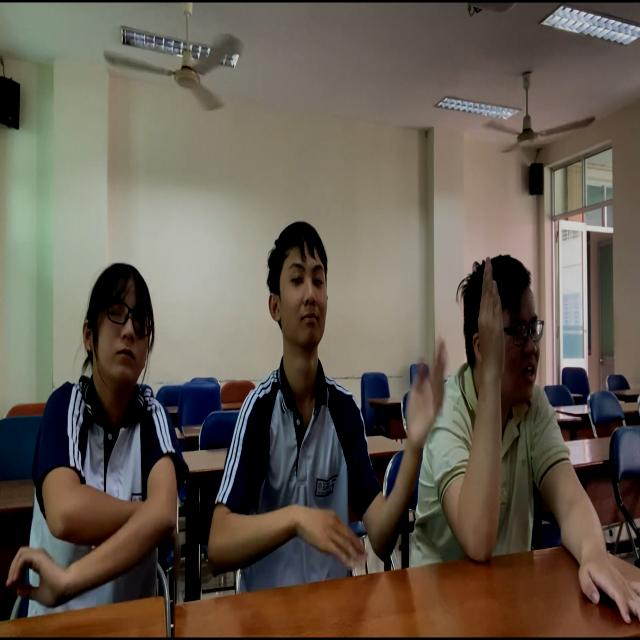raise_hand: (420, 241, 603, 584)
